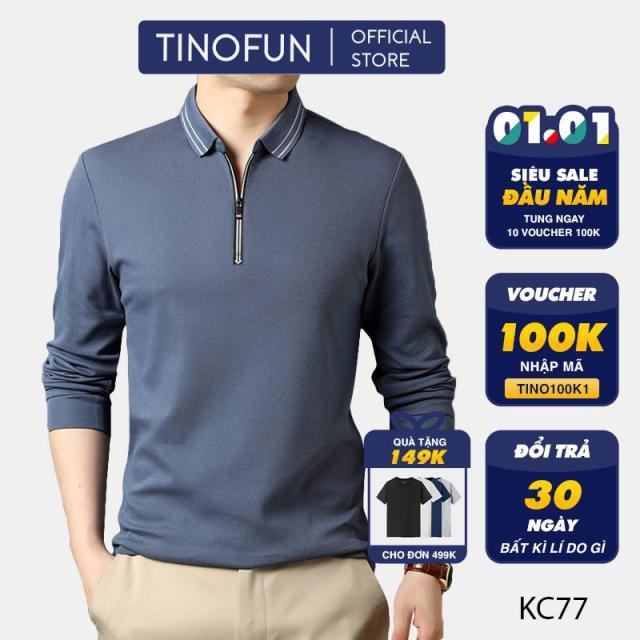shirt: (31, 85, 473, 572)
